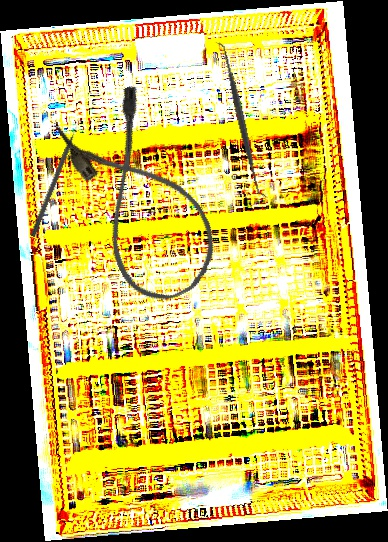Cannula: (49, 80, 233, 315)
Pusher: (29, 119, 84, 238)
Spatula Surgical: (214, 38, 269, 202)
